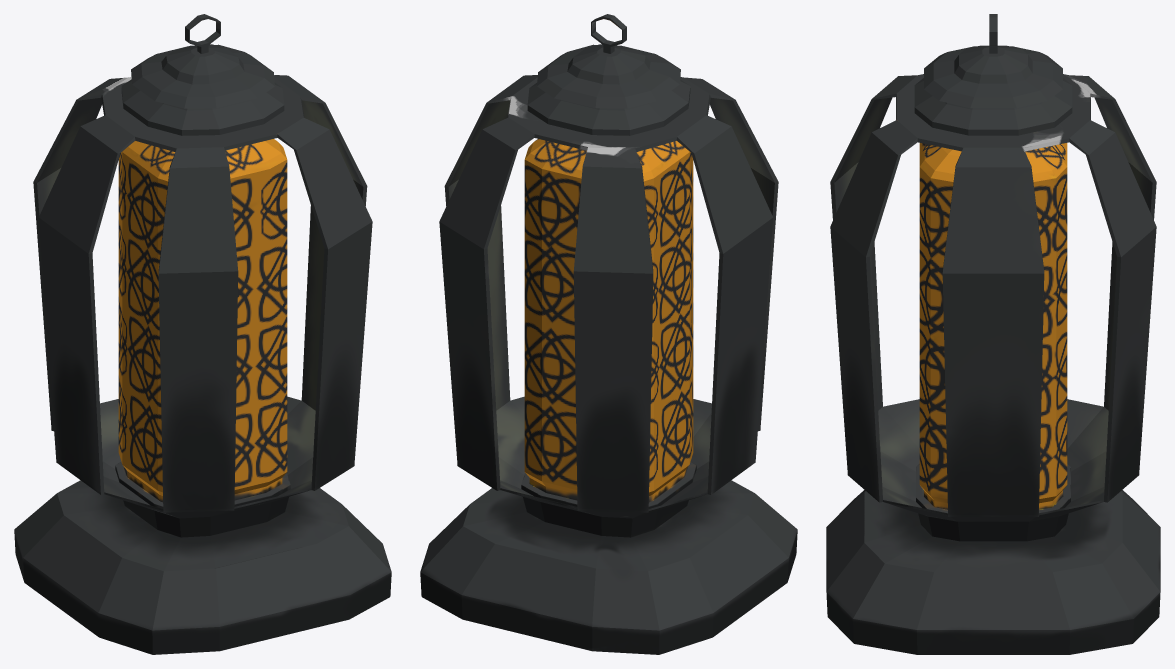
File: lamp-bl4.glb
The picture shows the model from 3 angles, left to right: view 1: azimuth 30°, elevation 25°; view 2: azimuth 150°, elevation 25°; view 3: azimuth 270°, elevation 25°; orthographic projection.
Parts seen in each view (by area): view 1: Cube; view 2: Cube; view 3: Cube.
Boxes of the visible parts, left/top/right/bottom form: Cube: left=14, top=14, right=391, bottom=654; Cube: left=420, top=14, right=797, bottom=654; Cube: left=826, top=14, right=1160, bottom=654.
Bounding box in the file's own units: 0.8983 × 1.69 × 0.8983.
1 material, 1 textured.
